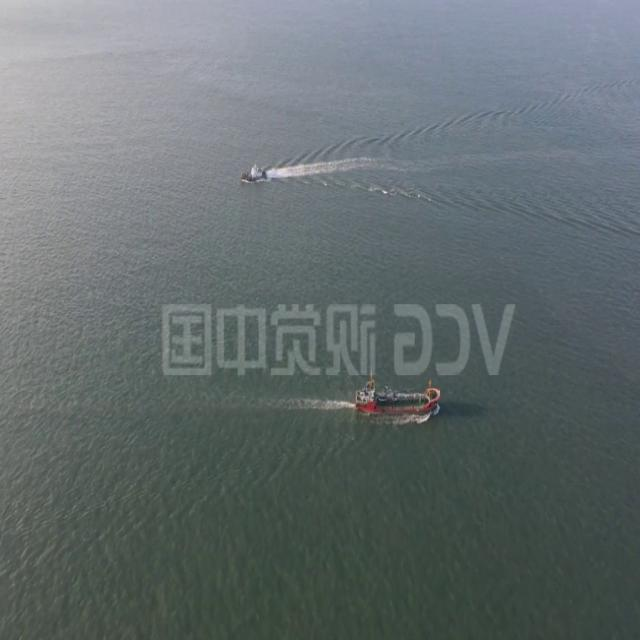cargoship: (354, 364, 446, 424), (241, 161, 270, 190)
